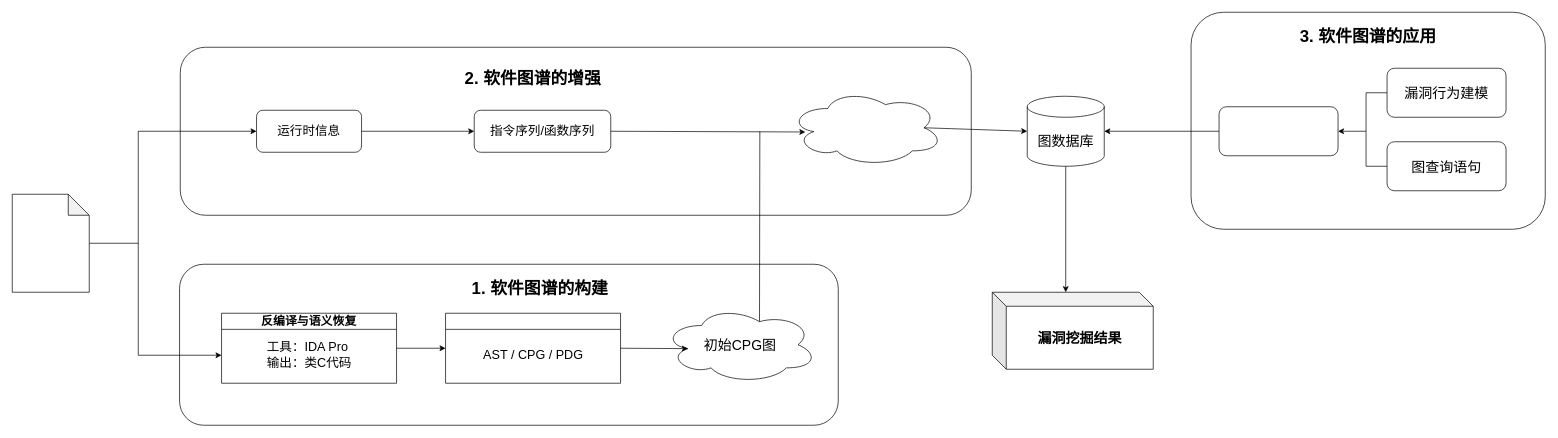
Some shapes in this 1558 by 438 pixel diagram are drawn without their labels. The box of each missing label's shape, as (x1, y1, x2, y2) in pixels:
二进制程序: (12, 194, 89, 292)
基础图构建: (445, 313, 621, 383)
增强CPG图: (789, 89, 943, 166)
漏洞查询语句: (1218, 106, 1338, 156)
